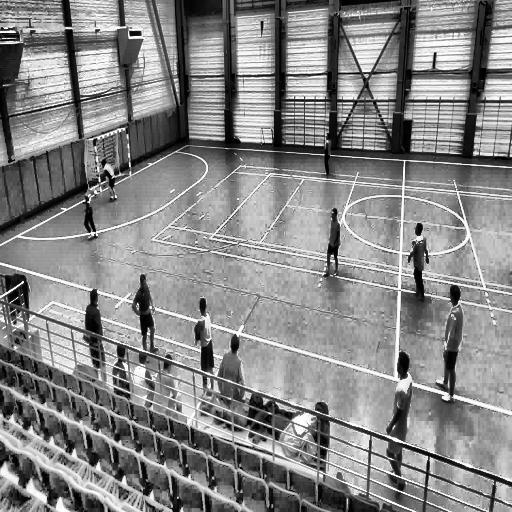ball: (93, 189, 98, 199)
player: (384, 350, 412, 494), (436, 286, 464, 404), (216, 332, 246, 410), (132, 273, 156, 360), (194, 297, 215, 394), (407, 222, 430, 304), (321, 208, 340, 278), (84, 184, 99, 238), (101, 160, 117, 204), (322, 131, 333, 177)
